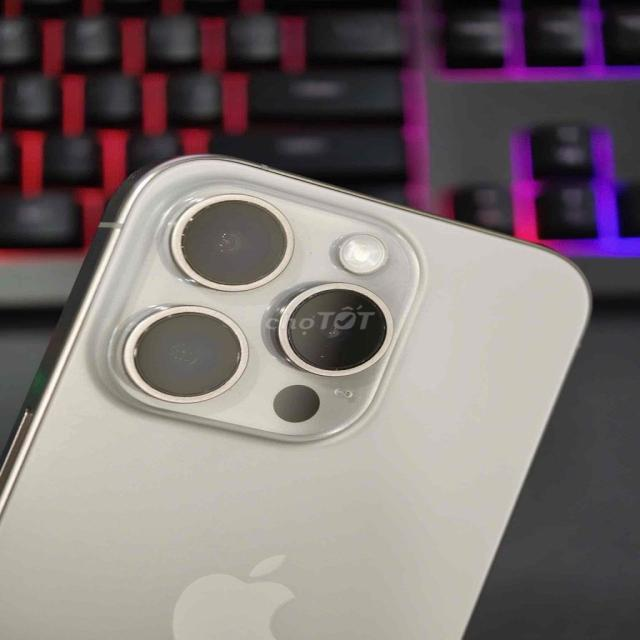scratch: (81, 185, 393, 422)
